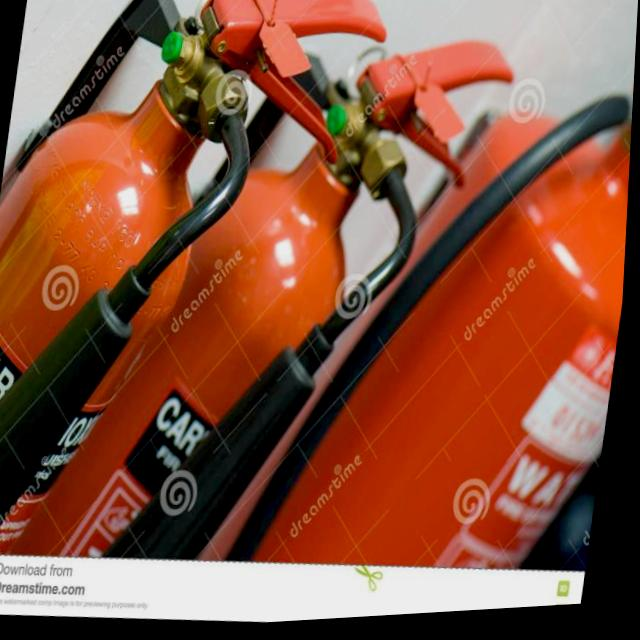FireExtinguisher: (0, 0, 532, 594), (222, 14, 638, 593), (0, 0, 399, 585)
